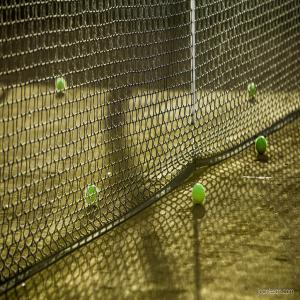TennisBall: (193, 184, 206, 206), (87, 187, 101, 207), (255, 137, 268, 156), (57, 77, 69, 95), (249, 83, 257, 98)
